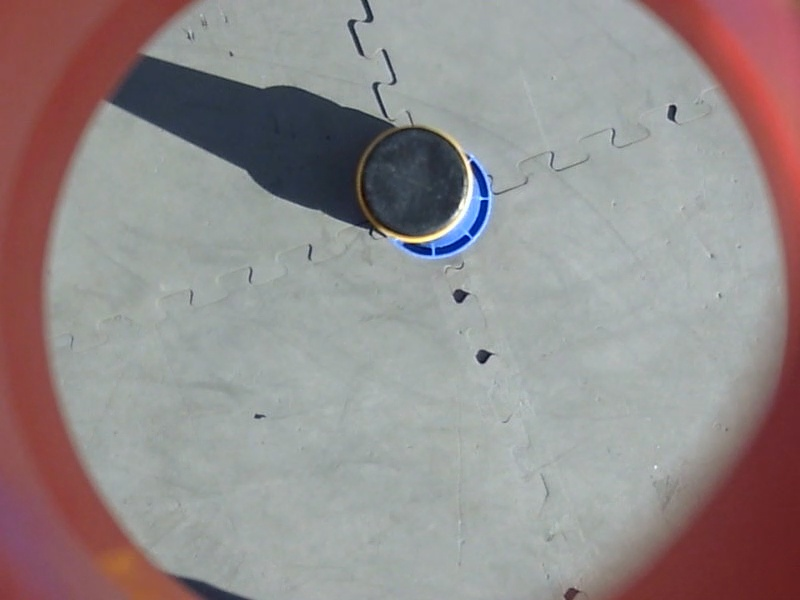tip: (350, 117, 477, 249)
